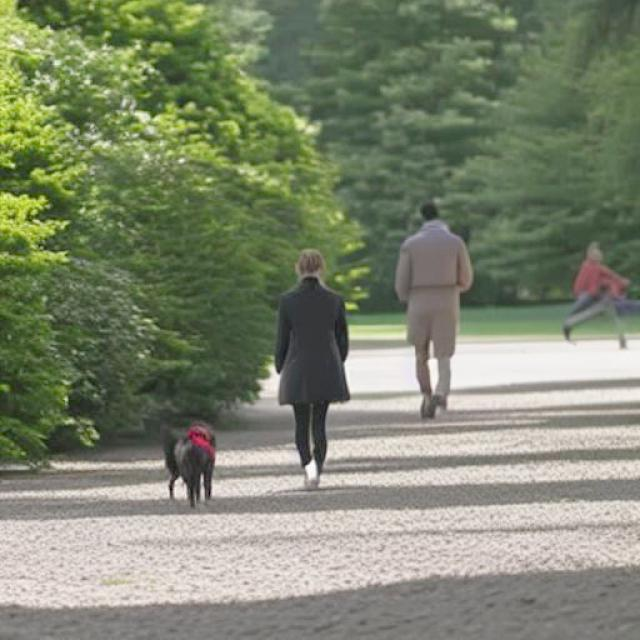Unleashed_Dog: (161, 349, 326, 510)
